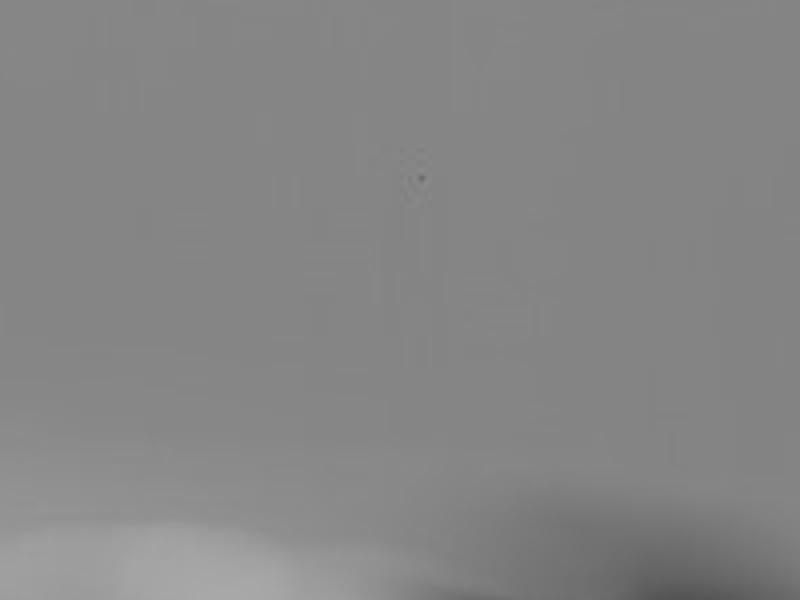defect: (413, 169, 431, 185)
